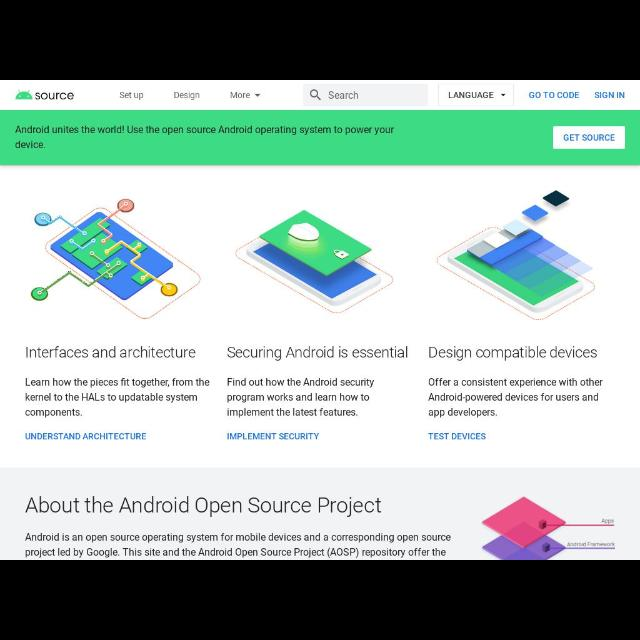icon: (310, 90, 322, 100), (499, 92, 506, 98), (253, 94, 260, 98)
image: (436, 189, 596, 321), (30, 198, 202, 320), (235, 210, 393, 314), (482, 496, 616, 560), (15, 89, 74, 101)
input: (304, 84, 428, 106)
multitab: (108, 80, 270, 110)
spinner: (438, 84, 514, 106), (230, 91, 262, 99)
text: (25, 532, 453, 560), (15, 125, 395, 151), (24, 496, 382, 518), (25, 378, 211, 418), (427, 377, 603, 419), (226, 376, 374, 418), (228, 346, 410, 362), (428, 346, 598, 362), (25, 345, 196, 359), (24, 432, 148, 442), (226, 432, 320, 442), (428, 432, 487, 441), (528, 91, 580, 99), (448, 91, 494, 99), (328, 90, 359, 100), (174, 91, 200, 101), (120, 91, 144, 101), (595, 91, 625, 99), (230, 91, 252, 99)
textbutton: (554, 127, 624, 149)
